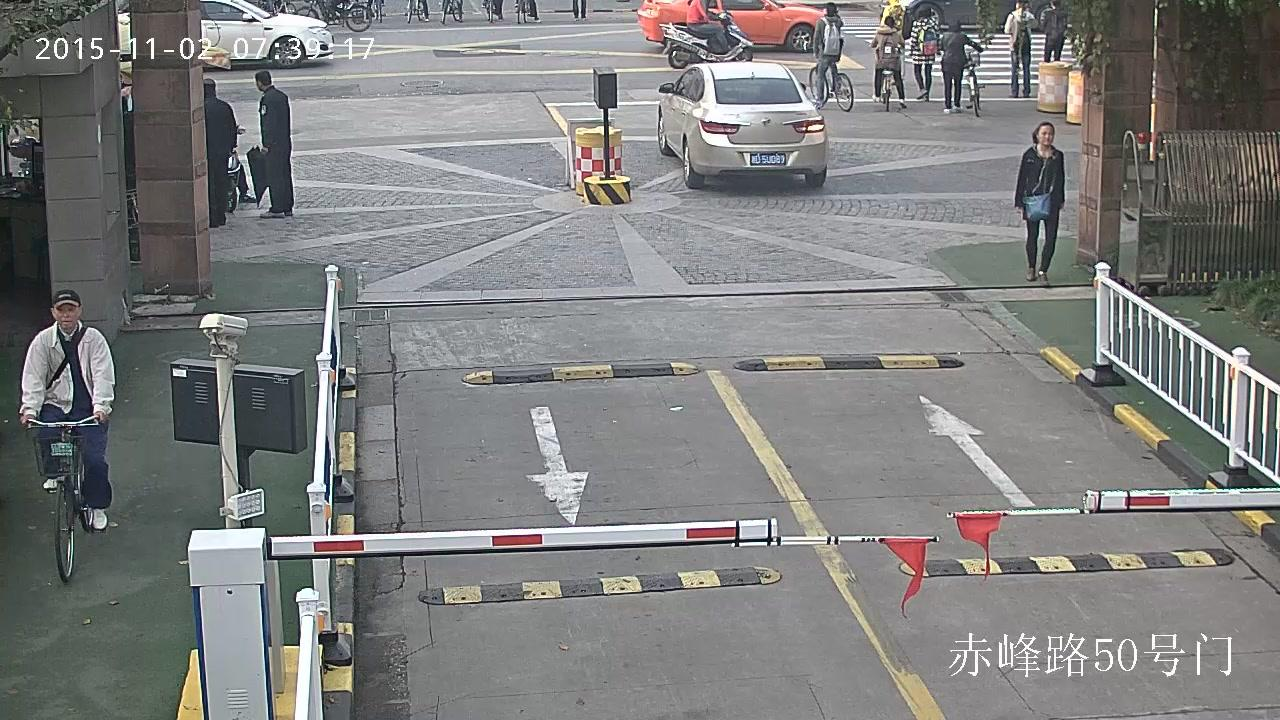face: (55, 303, 76, 328), (1039, 126, 1052, 144), (255, 77, 259, 89)
